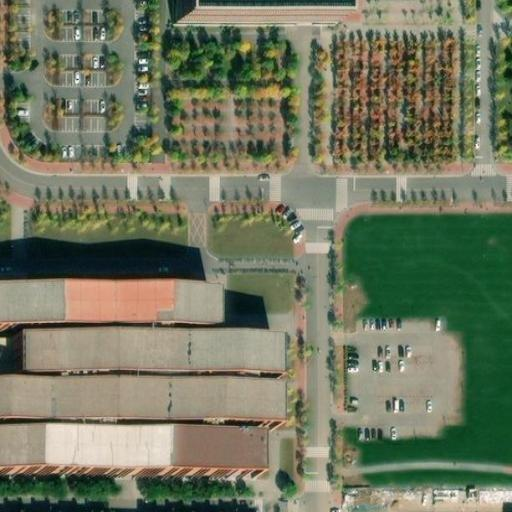building: (25, 329, 284, 373)
